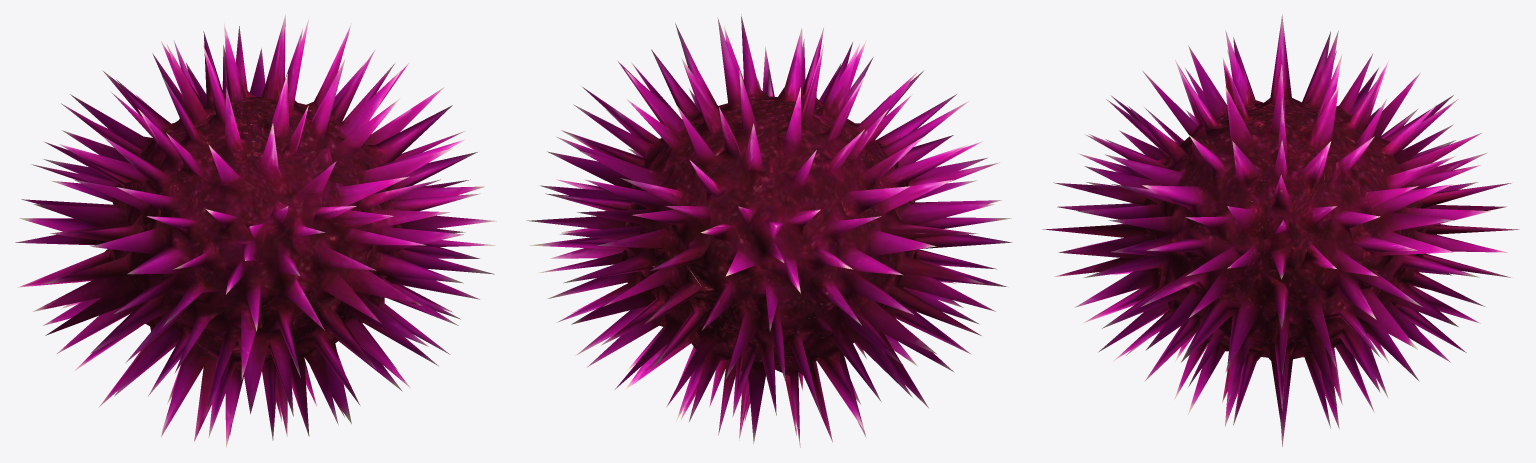
File: Urchin.obj
The picture shows the model from 3 angles, left to right: view 1: azimuth 30°, elevation 25°; view 2: azimuth 150°, elevation 25°; view 3: azimuth 270°, elevation 25°; orthographic projection. The views are drawn at different scales.
Bounding box in the file's own units: 0.9867 × 0.874 × 1.
Materials: 1 (1 with a texture image).
